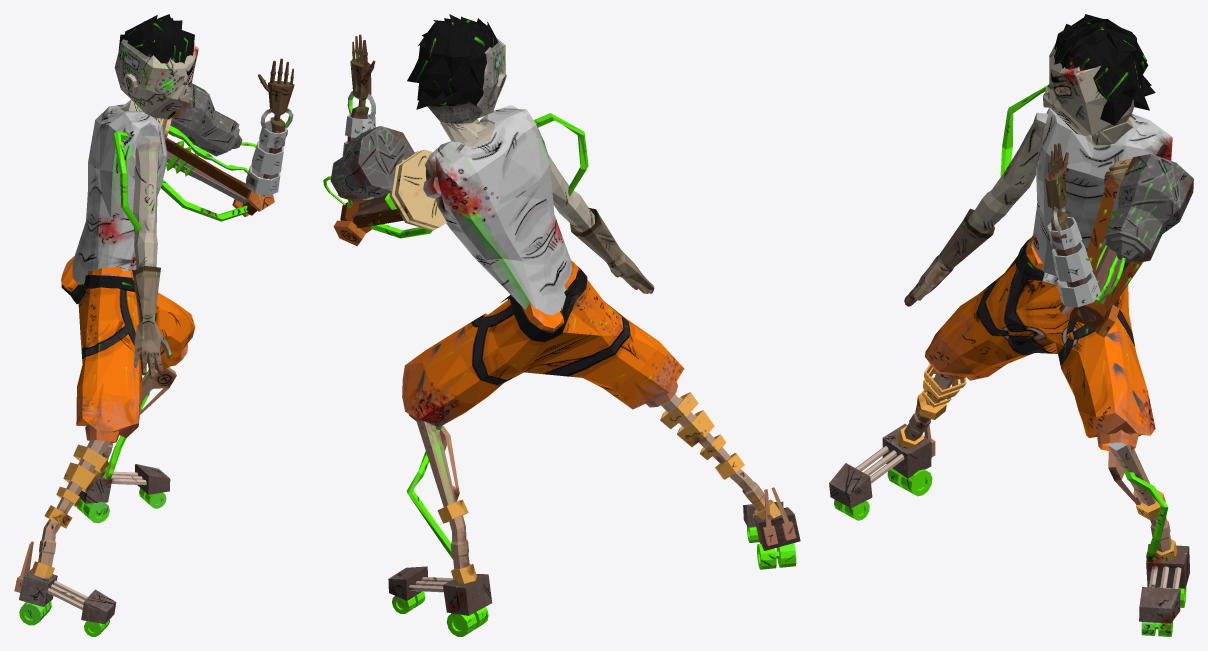
The model's file is CyborgFINALAnimation_000035.obj.
3 views of the same model, side by side, from view 1: azimuth 30°, elevation 25°; view 2: azimuth 150°, elevation 25°; view 3: azimuth 270°, elevation 25° (orthographic). The views are drawn at different scales.
Visible parts, largest first — view 1: CyborgMesh_Cube.002; view 2: CyborgMesh_Cube.002; view 3: CyborgMesh_Cube.002.
Part boxes in pixels (bbox=[...]): CyborgMesh_Cube.002: bbox=[14, 14, 294, 636]; CyborgMesh_Cube.002: bbox=[323, 14, 800, 636]; CyborgMesh_Cube.002: bbox=[829, 14, 1193, 636].
Bounding box in the file's own units: 5.99 × 8.67 × 4.72.
